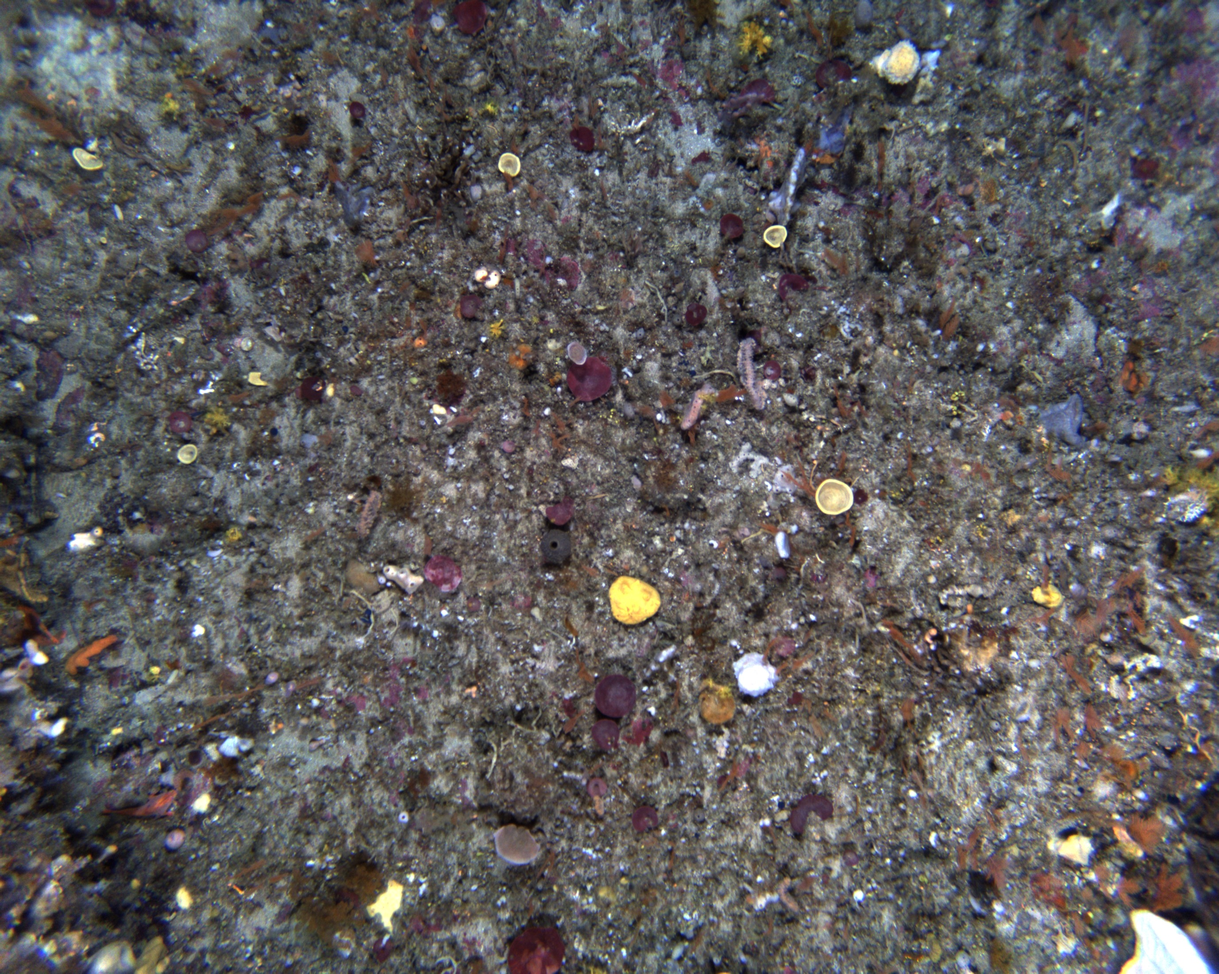Brachionichthyidae: (99, 787, 181, 819)
